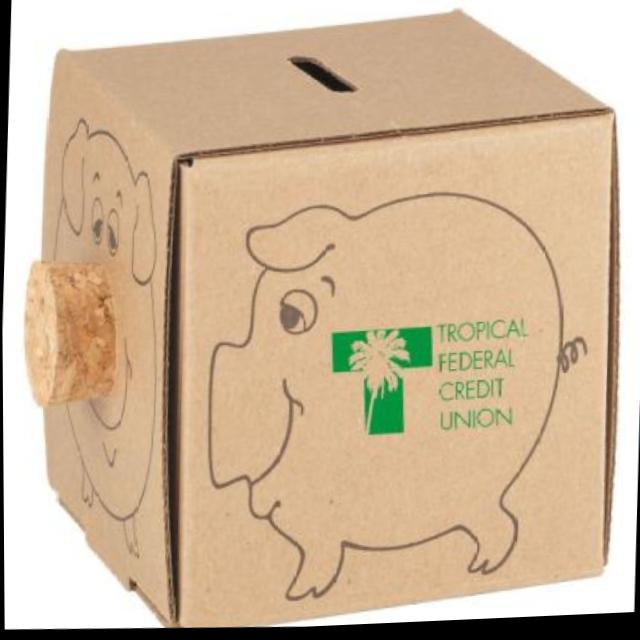box: (4, 0, 638, 640)
